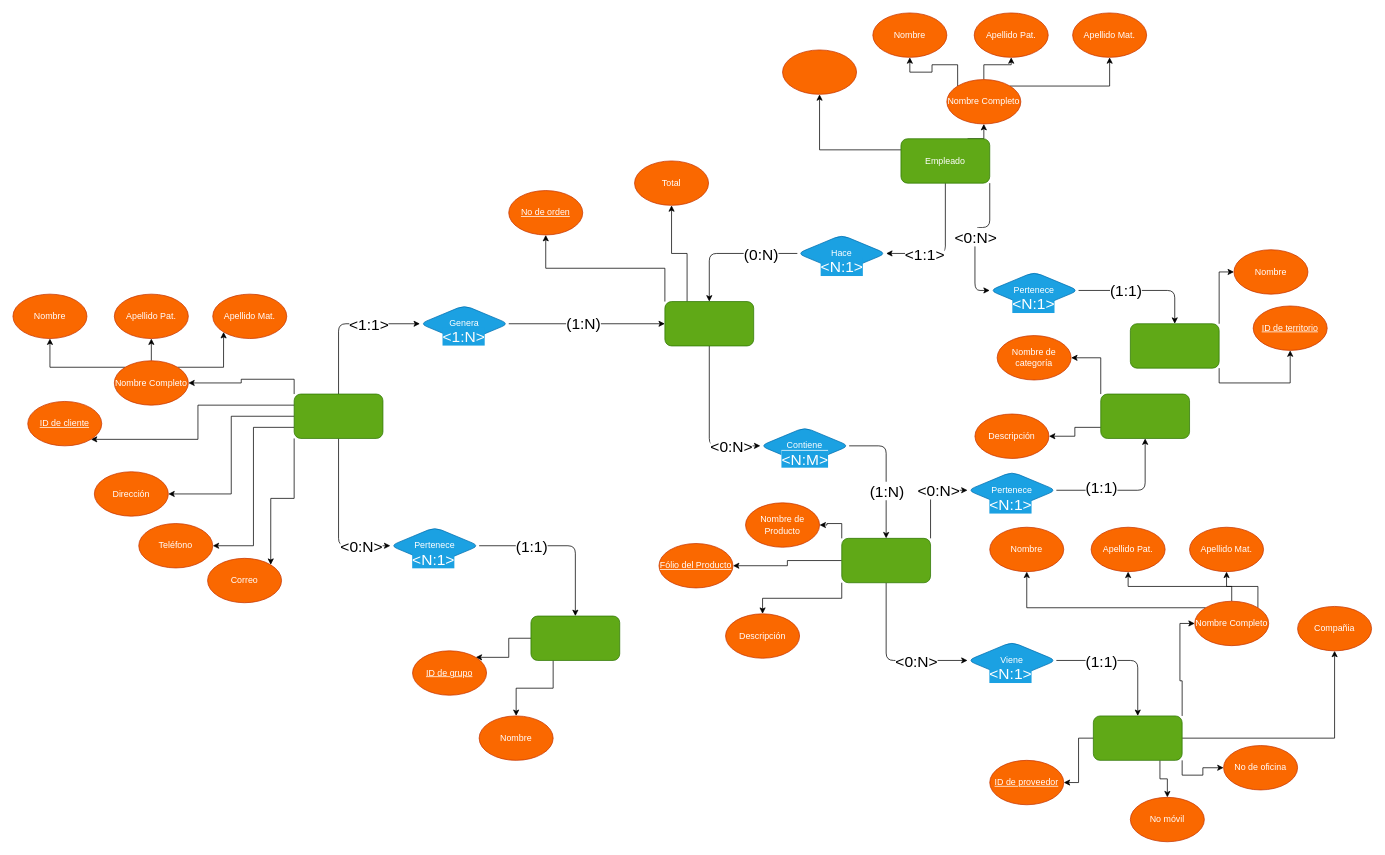
This 1385x855 diagram has some shape labels left out. Here are the shapes that lost their labels. From the top down, the centre of each, then its label:
At point 819,71: "No de empleado".
At point 709,323: "Órden de compra".
At point 1174,345: "Territorio".
At point 338,415: "Cliente".
At point 1145,415: "Categoría".
At point 886,560: "Producto".
At point 575,637: "Grupo de clientes".
At point 1137,737: "Provedor".
